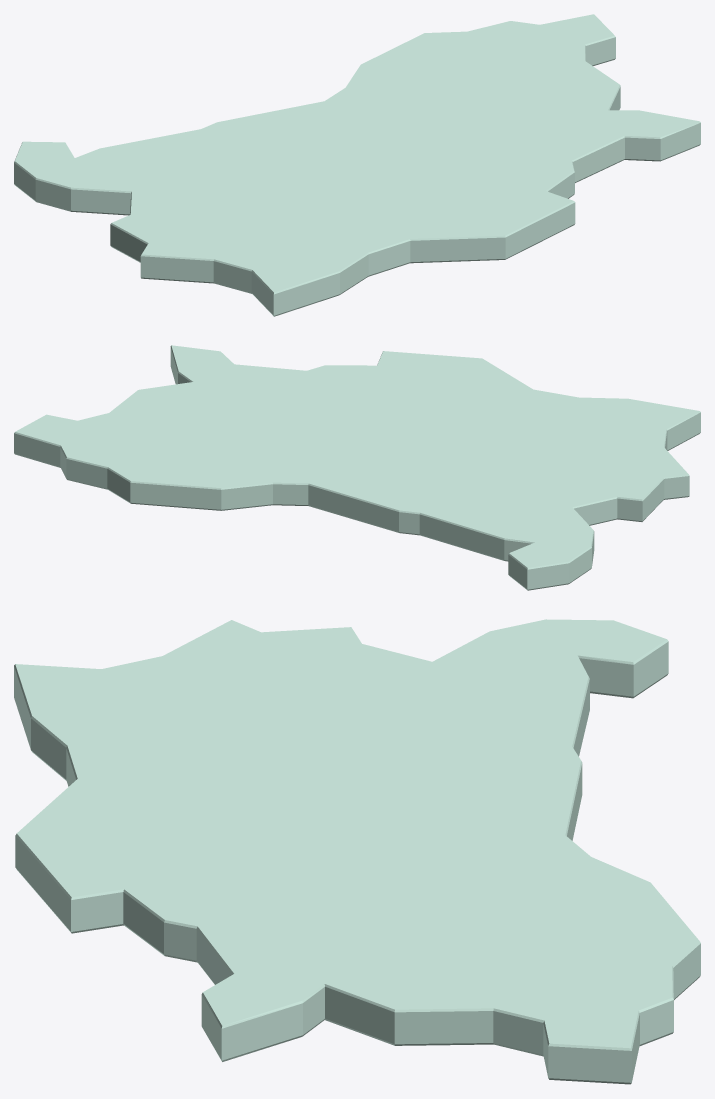
File: BGR.glb
3 views of the same model, one above another, from view 1: azimuth 30°, elevation 25°; view 2: azimuth 150°, elevation 25°; view 3: azimuth 270°, elevation 25° (orthographic). The views are drawn at different scales.
Bounding box in the file's own units: 1.73 × 0.068 × 1.17.
